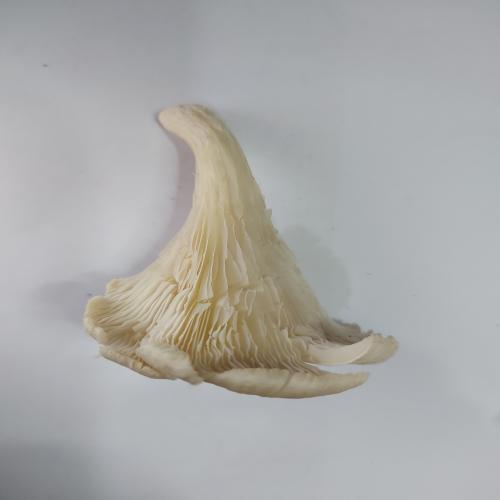Oyster Mushroom: (82, 102, 400, 400)
